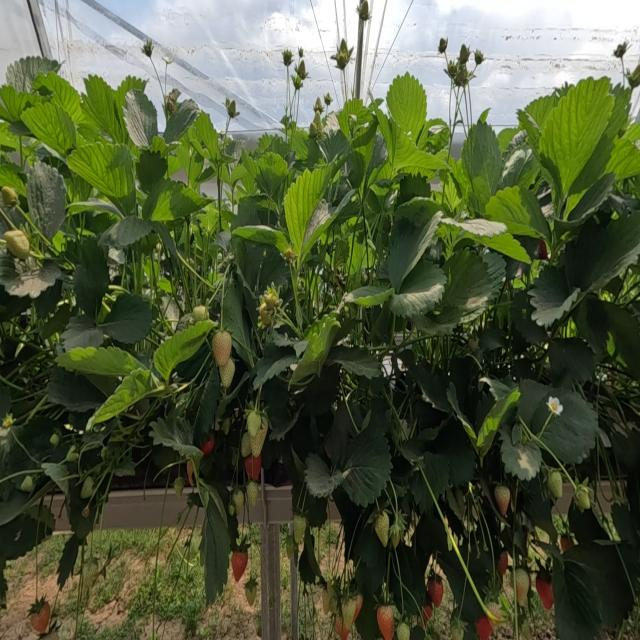Flowers: (548, 397, 562, 414), (313, 98, 324, 119)
Leaves: (554, 501, 640, 639), (540, 78, 614, 205), (231, 197, 290, 299), (564, 211, 639, 291), (429, 250, 503, 331), (567, 543, 634, 629), (528, 383, 599, 463), (284, 158, 339, 255), (67, 143, 133, 215), (437, 546, 485, 639), (387, 210, 442, 291), (56, 346, 146, 394), (552, 555, 601, 639), (341, 426, 391, 506), (486, 185, 551, 244), (460, 111, 502, 202), (0, 426, 52, 499), (379, 120, 444, 178), (424, 420, 475, 490), (154, 320, 213, 378), (200, 493, 230, 603), (389, 262, 446, 319), (26, 161, 66, 238), (529, 265, 578, 327), (73, 238, 110, 319), (23, 100, 75, 157), (603, 302, 640, 381), (294, 316, 339, 380), (83, 75, 125, 143), (142, 179, 209, 221), (222, 275, 253, 364), (390, 543, 428, 615), (387, 73, 426, 142), (35, 72, 84, 125), (46, 367, 105, 411), (100, 293, 151, 343), (292, 456, 327, 526), (501, 424, 542, 481), (573, 296, 609, 359), (449, 356, 480, 424), (355, 525, 385, 594), (549, 338, 595, 382), (409, 364, 451, 412), (4, 264, 61, 299), (464, 233, 530, 263), (5, 56, 57, 93), (510, 292, 547, 343), (124, 91, 157, 147), (253, 346, 295, 388), (194, 369, 220, 436), (325, 401, 351, 467), (98, 216, 151, 247), (461, 546, 492, 599), (61, 315, 103, 353), (151, 417, 195, 453), (305, 454, 342, 496), (255, 153, 288, 200), (330, 347, 380, 378), (163, 102, 199, 142), (232, 227, 289, 252), (396, 197, 443, 226), (605, 140, 639, 180), (440, 218, 507, 238), (136, 150, 167, 193), (287, 125, 321, 164), (498, 148, 531, 188), (193, 112, 219, 162), (58, 532, 81, 587), (259, 248, 289, 288), (299, 529, 320, 584), (518, 106, 541, 156), (417, 515, 447, 553), (397, 173, 430, 205), (375, 107, 393, 164), (344, 285, 392, 306), (356, 596, 379, 639), (0, 490, 28, 525), (269, 410, 296, 441), (42, 463, 67, 496), (258, 133, 291, 156), (480, 322, 506, 351), (114, 455, 135, 475), (310, 560, 317, 574)
Strawberries: (211, 330, 231, 367), (29, 599, 50, 634), (5, 229, 29, 259), (331, 40, 351, 73), (342, 596, 361, 628), (536, 575, 553, 610), (377, 606, 394, 639), (230, 551, 247, 582), (428, 574, 443, 607), (374, 513, 388, 547), (495, 485, 510, 515), (247, 412, 263, 439), (547, 471, 562, 499), (575, 486, 590, 510), (244, 578, 257, 604), (319, 586, 331, 614), (294, 515, 306, 543), (476, 617, 491, 639), (241, 431, 253, 458), (334, 618, 348, 639), (247, 481, 258, 507), (232, 489, 243, 515), (450, 617, 463, 639), (264, 290, 278, 310), (81, 477, 93, 499), (192, 306, 208, 322), (1, 188, 15, 205), (285, 533, 294, 558), (559, 535, 572, 552), (396, 623, 409, 639), (202, 437, 214, 454), (259, 307, 270, 325), (499, 553, 507, 575), (174, 477, 183, 495), (309, 121, 319, 136), (473, 51, 483, 66), (422, 605, 431, 621), (439, 38, 447, 55)
